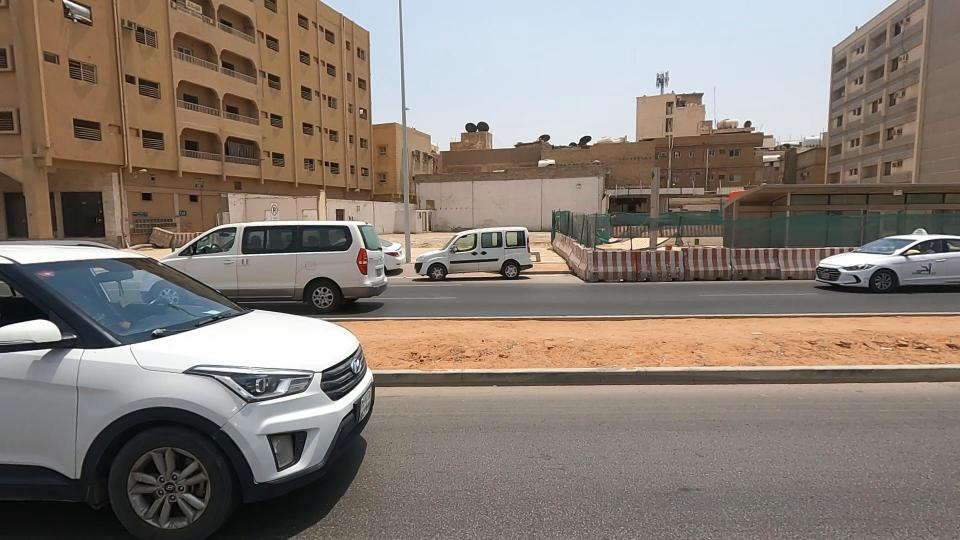CLUTTER_SIDEWALK: (529, 264, 960, 415), (314, 278, 694, 401)
